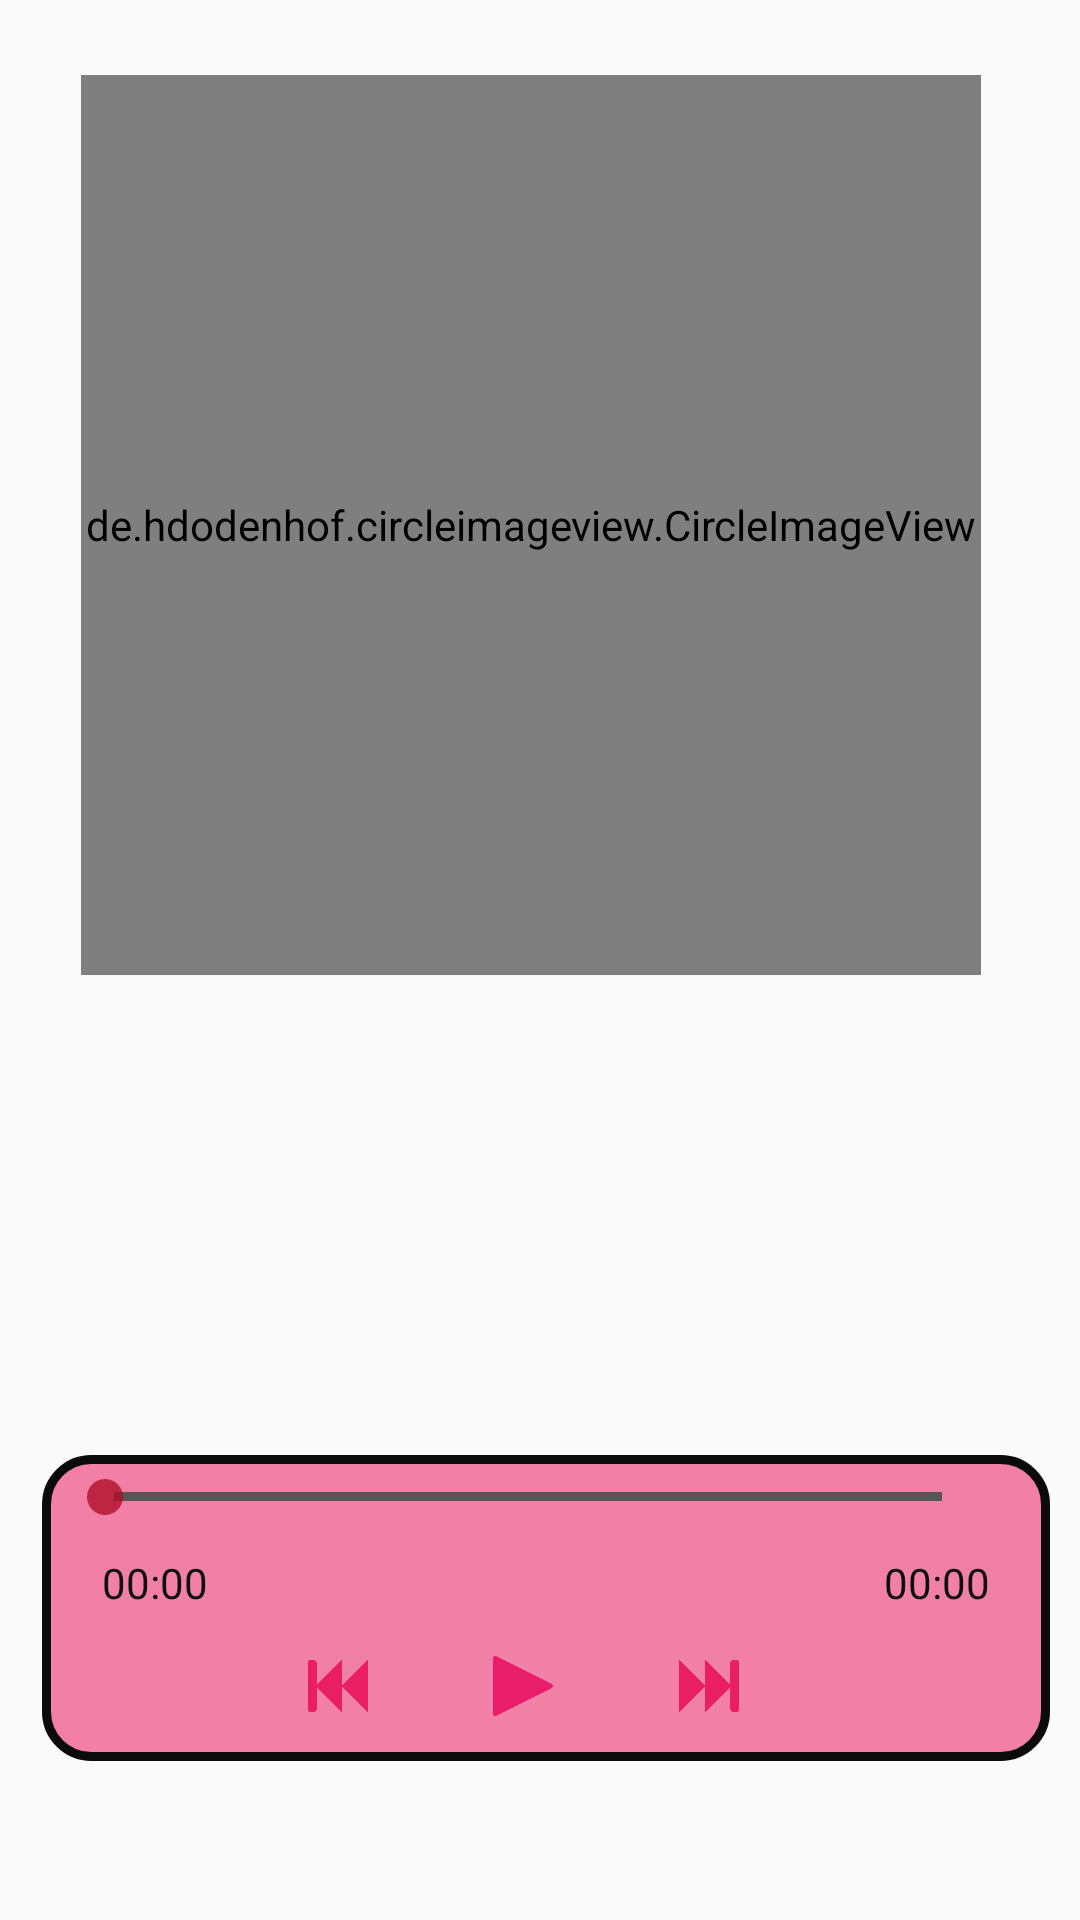

Locate icon controls on the screen. Image size 1080w x 1920h, boxes as (x1,y1,x2,y2).
next: (679,1660,739,1712)
previous: (308,1660,368,1712)
